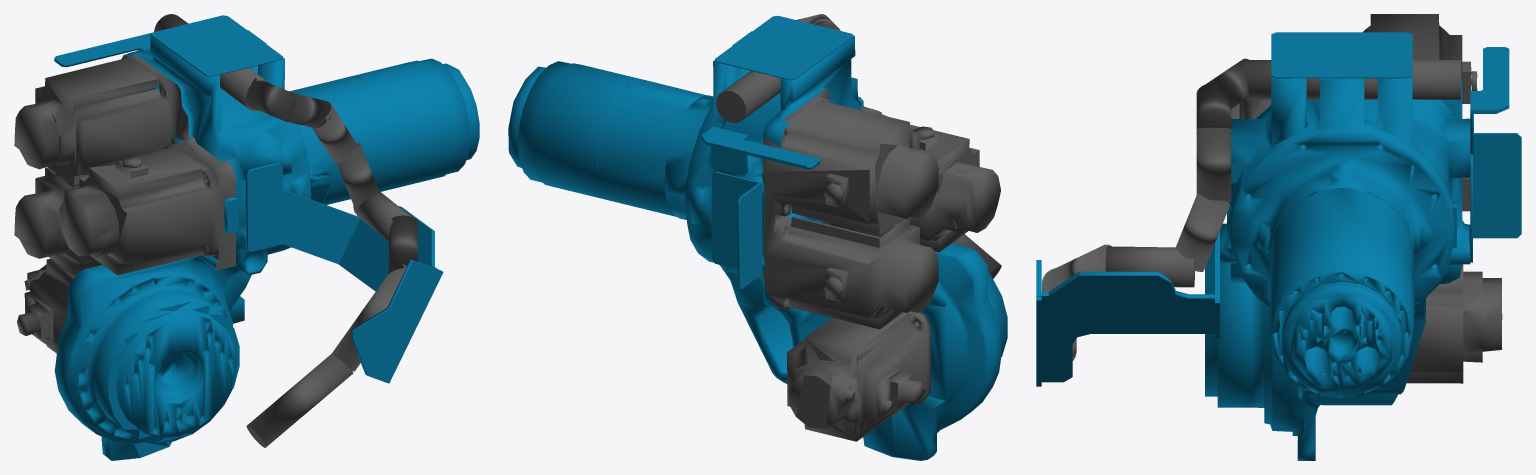
The picture shows the model from 3 angles, left to right: view 1: azimuth 30°, elevation 25°; view 2: azimuth 150°, elevation 25°; view 3: azimuth 270°, elevation 25°; orthographic projection. The views are drawn at different scales.
Parts seen in each view (by area): view 1: mh50-35_lk3, link3, link3.002, link3.003, link3.004, link3.005, link3.008, link3.006, link3.007; view 2: mh50-35_lk3, link3, link3.002; view 3: mh50-35_lk3, link3, link3.006, link3.005, link3.007, link3.004, link3.008.
Boxes of the visible parts, x1=… form: mh50-35_lk3: x1=14, y1=30, x2=479, y2=460; link3: x1=54, y1=14, x2=443, y2=383; link3.002: x1=246, y1=353, x2=353, y2=447; link3.003: x1=332, y1=263, x2=406, y2=371; link3.004: x1=388, y1=215, x2=417, y2=273; link3.005: x1=336, y1=143, x2=379, y2=209; link3.008: x1=244, y1=78, x2=293, y2=122; link3.006: x1=312, y1=101, x2=357, y2=163; link3.007: x1=281, y1=92, x2=331, y2=128; mh50-35_lk3: x1=508, y1=31, x2=1007, y2=460; link3: x1=701, y1=15, x2=863, y2=288; link3.002: x1=952, y1=234, x2=1001, y2=278; mh50-35_lk3: x1=1205, y1=14, x2=1502, y2=460; link3: x1=1036, y1=32, x2=1521, y2=386; link3.006: x1=1196, y1=127, x2=1231, y2=202; link3.005: x1=1175, y1=193, x2=1229, y2=271; link3.007: x1=1196, y1=83, x2=1231, y2=135; link3.004: x1=1047, y1=244, x2=1111, y2=290; link3.008: x1=1205, y1=58, x2=1252, y2=108.
Size of the model in its own units: 0.654 by 0.5492 by 0.5619.
